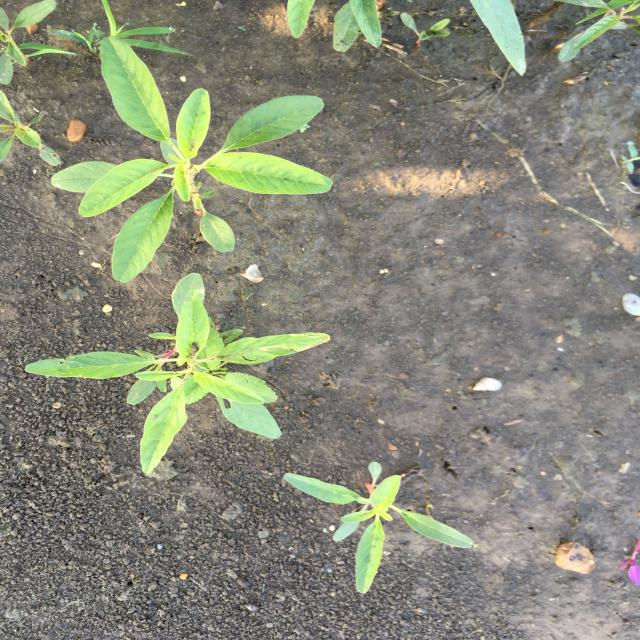Waterhemp: (48, 33, 336, 286), (22, 270, 333, 477), (280, 461, 478, 596), (1, 2, 82, 169), (553, 1, 639, 65), (282, 0, 386, 51)
